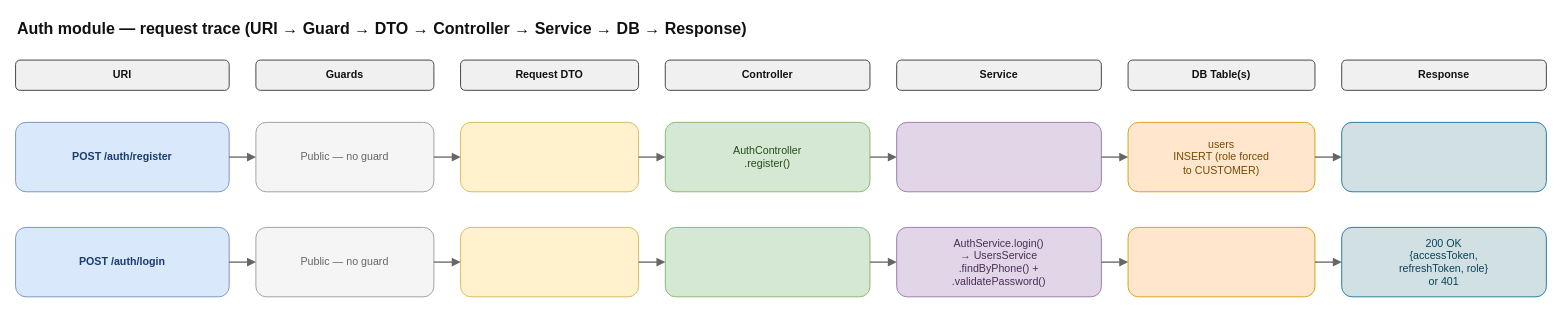
Some shapes in this 1562 by 312 pixel diagram are drawn without their labels. The shapes that lost their labels are listed below. From the top down, each one's box as (x1, y1, x2, y2) in pixels, then its label:
(460, 121, 639, 192): RegisterDto (class-validator)
(896, 121, 1101, 192): AuthService.register() → UsersService.create() (bcrypt hash password)
(1341, 121, 1546, 192): 201 Created {accessToken, refreshToken, role}
(460, 227, 639, 297): LoginDto
(664, 227, 870, 297): AuthController .login()
(1127, 227, 1315, 297): users SELECT WHERE phone
